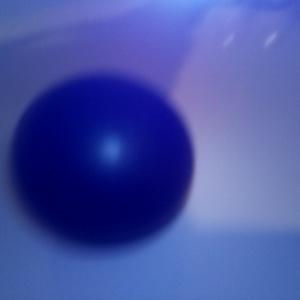dead_ball: (9, 74, 193, 248)
